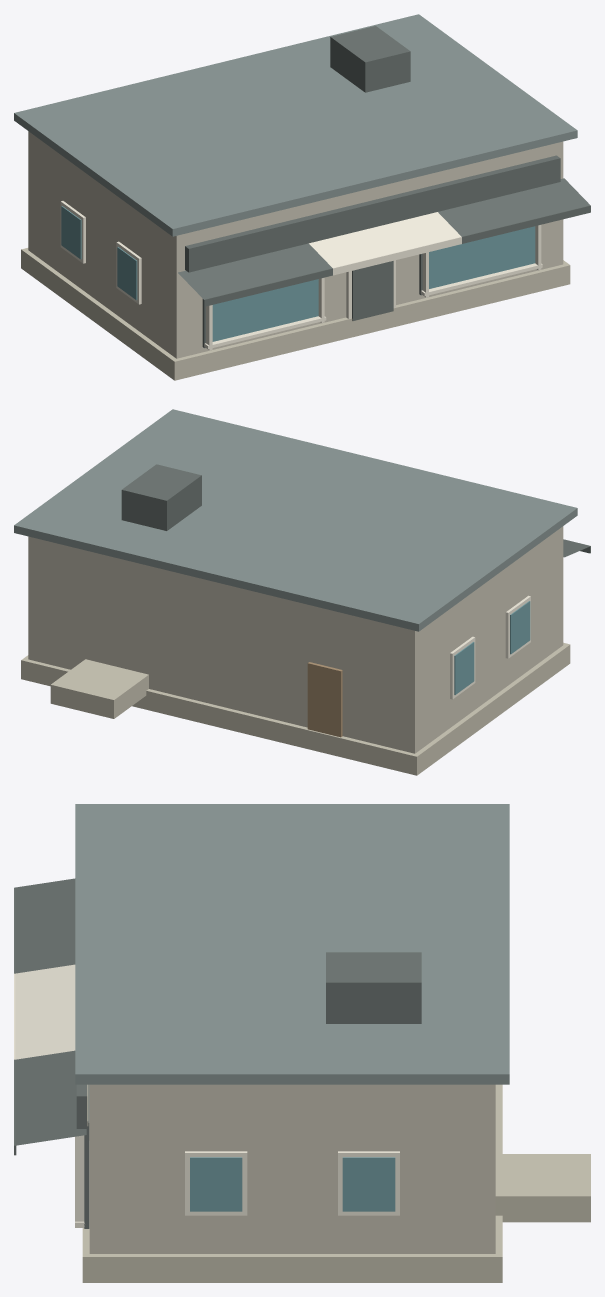
3 views of the same model, one above another, from view 1: azimuth 30°, elevation 25°; view 2: azimuth 150°, elevation 25°; view 3: azimuth 270°, elevation 25° (orthographic). The views are drawn at different scales.
Size of the model in its own units: 13.4 by 5.85 by 12.09.
